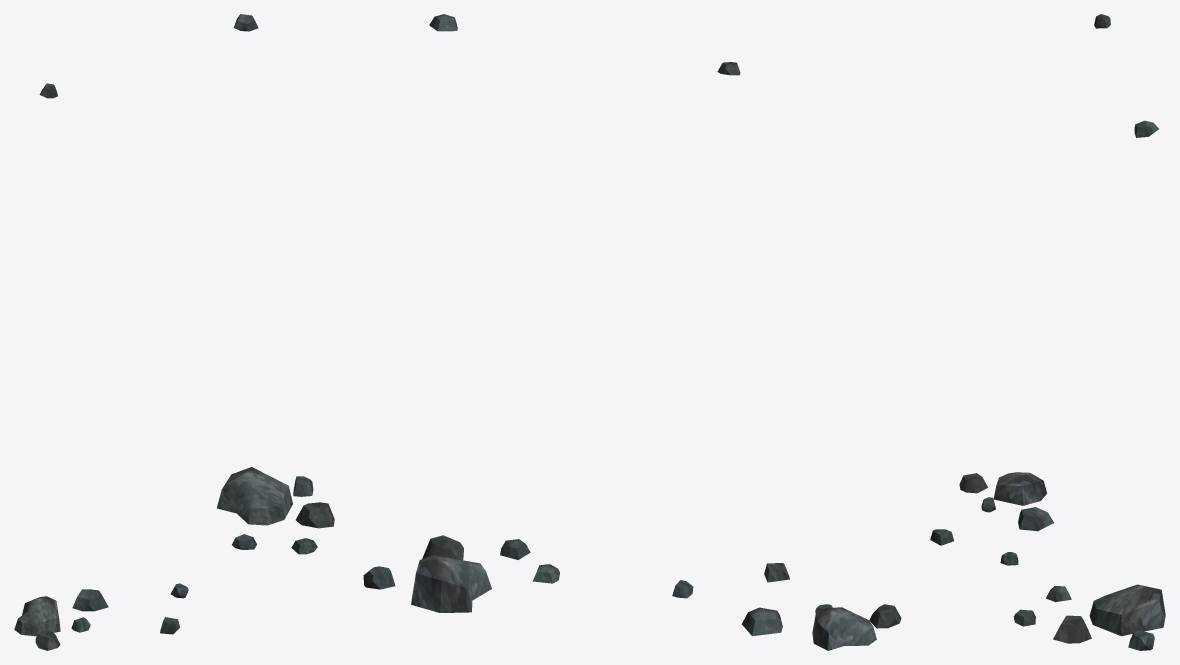
File: object_rubble22.fbx
3 renders of one model, left to right at view 1: azimuth 30°, elevation 25°; view 2: azimuth 150°, elevation 25°; view 3: azimuth 270°, elevation 25°, orthographic. The views are drawn at different scales.
Visible parts, largest first — view 1: Material_#238683587/cliffside; view 2: Material_#238683587/cliffside; view 3: Material_#238683587/cliffside.
Boxes of the visible parts, x1,y1,x2,y2 form: Material_#238683587/cliffside: (14, 14, 334, 650); Material_#238683587/cliffside: (363, 14, 901, 650); Material_#238683587/cliffside: (930, 14, 1165, 650).
Bounding box in the file's own units: 7.67 × 10.14 × 4.27.
